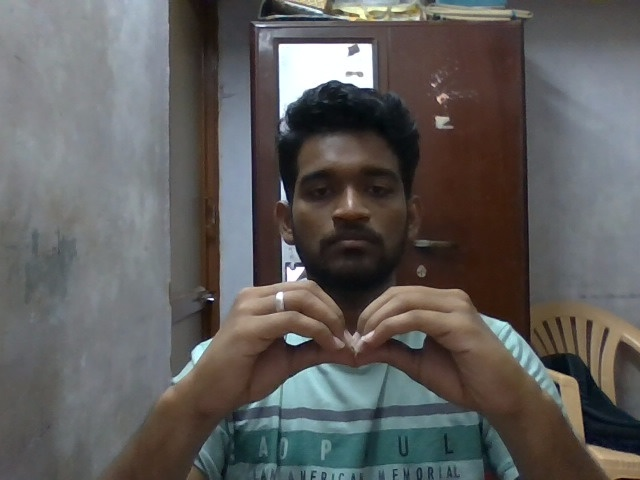B: (174, 276, 534, 448)
